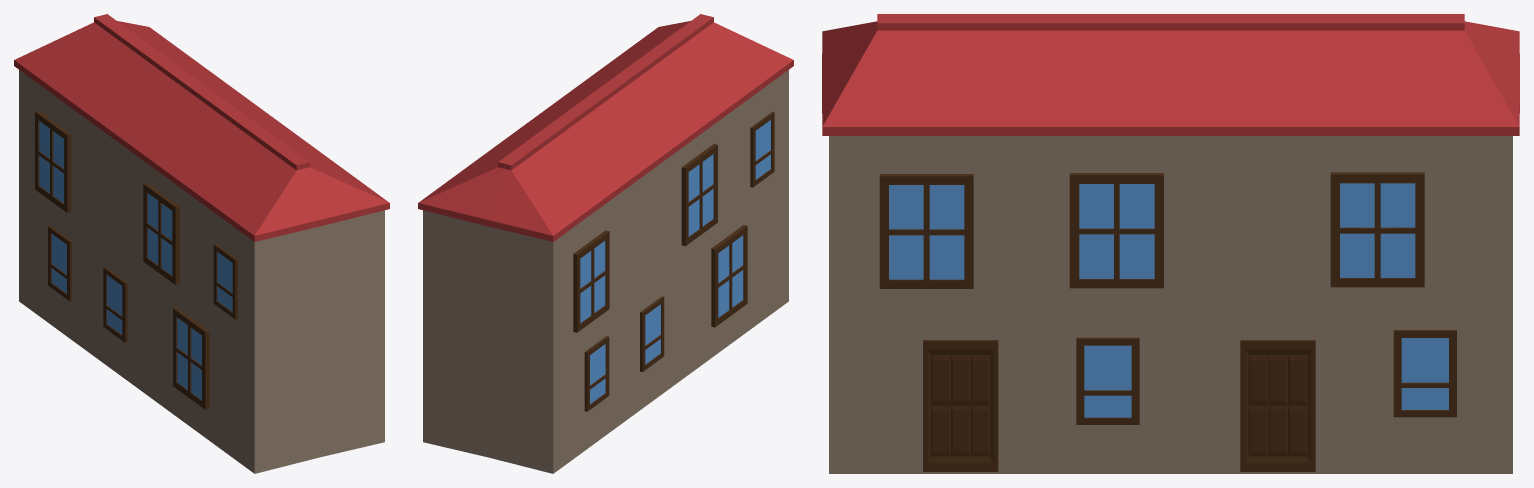
File: House5.fbx
The picture shows the model from 3 angles, left to right: view 1: azimuth 30°, elevation 25°; view 2: azimuth 150°, elevation 25°; view 3: azimuth 270°, elevation 25°; orthographic projection. The views are drawn at different scales.
Parts seen in each view (by area): view 1: Casa5, VentanaGrande.004, VentanaGrande.003, VentanaGrande.005, VentanaChica.003, VentanaChica.002, VentanaChica.004; view 2: Casa5, VentanaGrande.005, VentanaGrande.004, VentanaGrande.003, VentanaChica.002, VentanaChica.003, VentanaChica.004; view 3: Casa5, VentanaGrande.001, VentanaGrande.002, VentanaGrande, Puerta, Puerta.001, VentanaChica.001, VentanaChica.
Part boxes in pixels (x1=…): Casa5: x1=14, y1=14, x2=389, y2=473; VentanaGrande.004: x1=173, y1=307, x2=209, y2=409; VentanaGrande.003: x1=143, y1=183, x2=179, y2=285; VentanaGrande.005: x1=35, y1=110, x2=71, y2=212; VentanaChica.003: x1=213, y1=244, x2=237, y2=319; VentanaChica.002: x1=48, y1=225, x2=72, y2=301; VentanaChica.004: x1=103, y1=267, x2=127, y2=342; Casa5: x1=418, y1=14, x2=793, y2=473; VentanaGrande.005: x1=573, y1=230, x2=609, y2=332; VentanaGrande.004: x1=711, y1=225, x2=747, y2=327; VentanaGrande.003: x1=681, y1=144, x2=717, y2=246; VentanaChica.002: x1=584, y1=336, x2=609, y2=411; VentanaChica.003: x1=750, y1=112, x2=774, y2=187; VentanaChica.004: x1=640, y1=296, x2=664, y2=371; Casa5: x1=822, y1=14, x2=1519, y2=473; VentanaGrande.001: x1=1069, y1=173, x2=1163, y2=288; VentanaGrande.002: x1=1330, y1=172, x2=1424, y2=287; VentanaGrande: x1=879, y1=174, x2=973, y2=288; Puerta: x1=923, y1=340, x2=998, y2=471; Puerta.001: x1=1240, y1=340, x2=1315, y2=471; VentanaChica.001: x1=1076, y1=337, x2=1139, y2=424; VentanaChica: x1=1393, y1=330, x2=1456, y2=417.
Size of the model in its own units: 1226 by 2403 by 3715.
